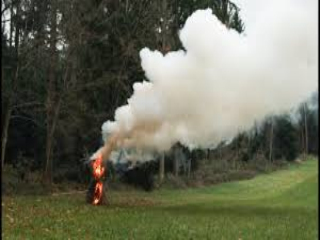fire: (86, 157, 113, 201)
smoke: (85, 14, 318, 163)
